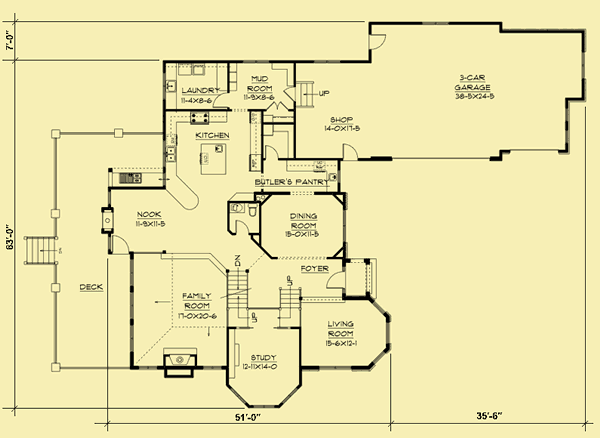door: (324, 270, 346, 289), (340, 142, 360, 161), (369, 33, 390, 51), (262, 143, 282, 161), (211, 90, 229, 108), (233, 216, 249, 236), (265, 101, 291, 112), (278, 86, 295, 101)
kitchen_bar: (197, 139, 228, 179)
large_sink: (246, 202, 258, 220)
sink: (164, 79, 177, 93)
stairs: (225, 256, 258, 330), (271, 274, 303, 330), (21, 233, 60, 264), (295, 79, 330, 109)
twin_sink: (165, 146, 178, 166)
